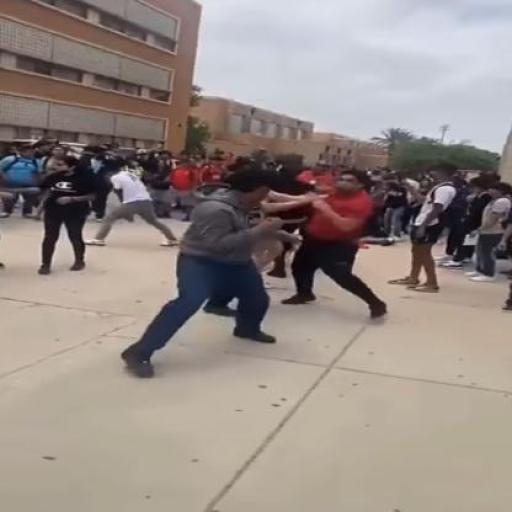Fighting: (115, 150, 388, 378)
